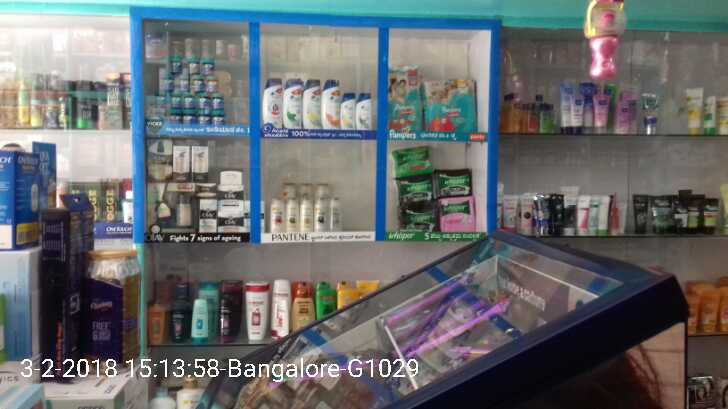beauty: (147, 137, 174, 183), (261, 82, 285, 131), (284, 82, 305, 129), (313, 184, 333, 232), (320, 80, 339, 129), (218, 184, 244, 216), (304, 81, 321, 129), (217, 206, 245, 234), (270, 197, 289, 233), (198, 198, 216, 236), (339, 92, 356, 132), (299, 188, 314, 233), (192, 147, 209, 181), (356, 92, 370, 131), (175, 148, 189, 182), (287, 198, 300, 231), (331, 199, 342, 233)
pharmacy: (420, 77, 482, 129), (163, 53, 217, 79), (431, 168, 476, 198), (438, 198, 477, 232), (400, 202, 437, 236), (392, 146, 433, 175), (394, 176, 434, 203), (167, 74, 217, 92)
